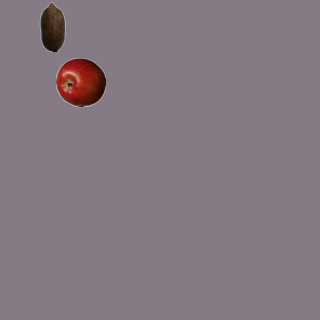Apple Braeburn: (55, 57, 105, 107)
Nut Pecan: (27, 1, 77, 51)
